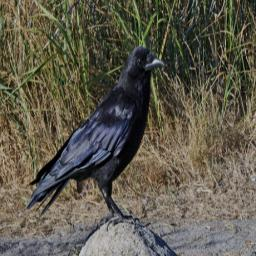Crow: (25, 40, 167, 234)
